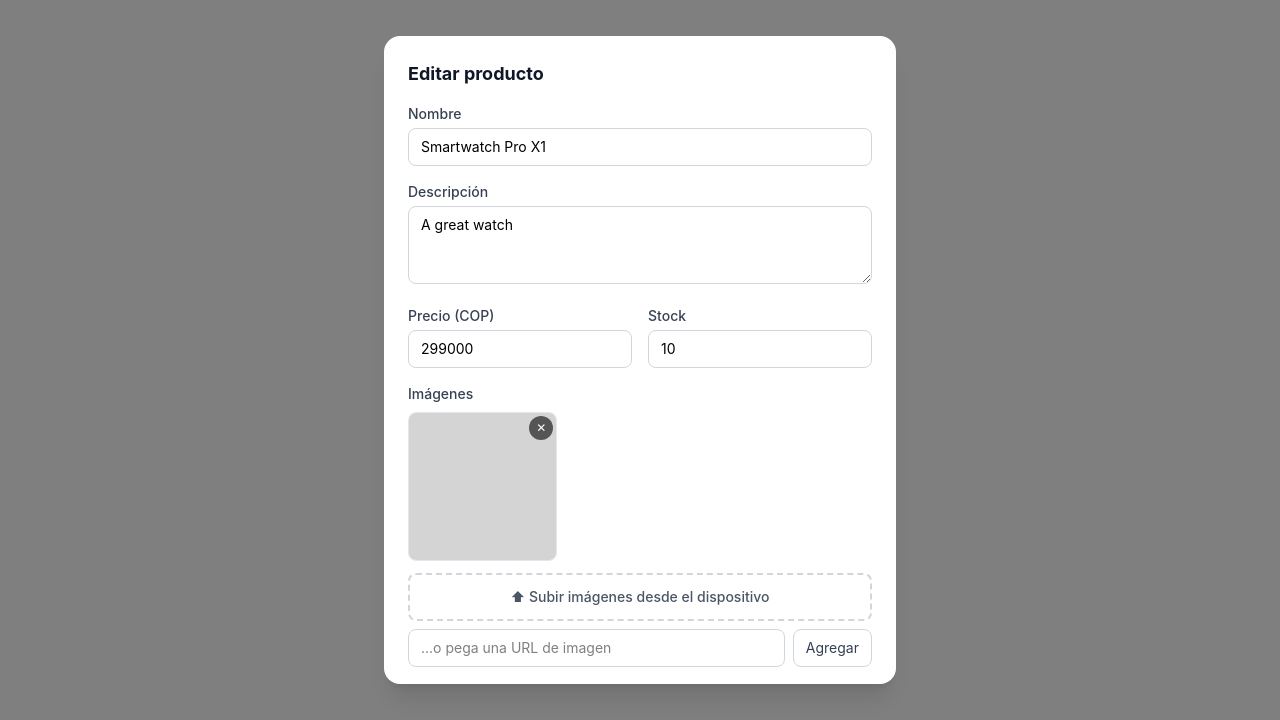
Scenario: ProductFormModal › can remove an image
Click the button named "Eliminar imagen". click: (541, 428)
box: [529, 416, 553, 440]
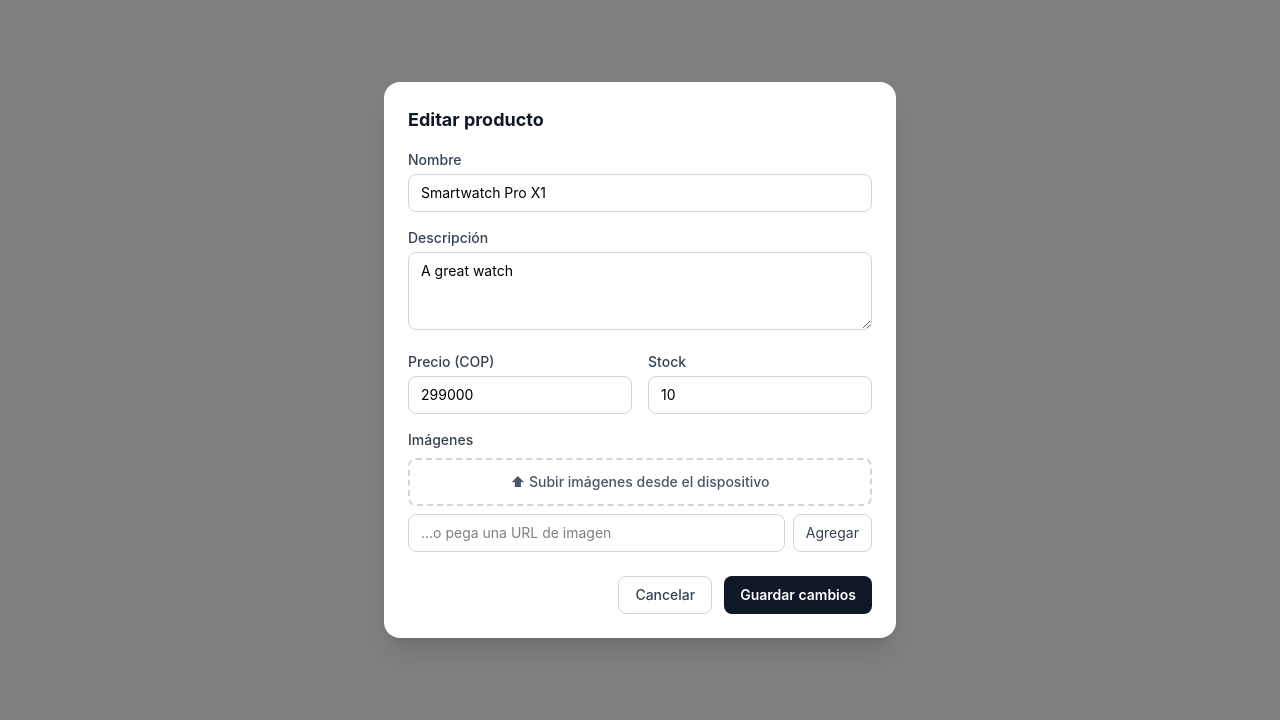
Click the button "Guardar cambios". click: (798, 595)
box: [724, 576, 872, 614]
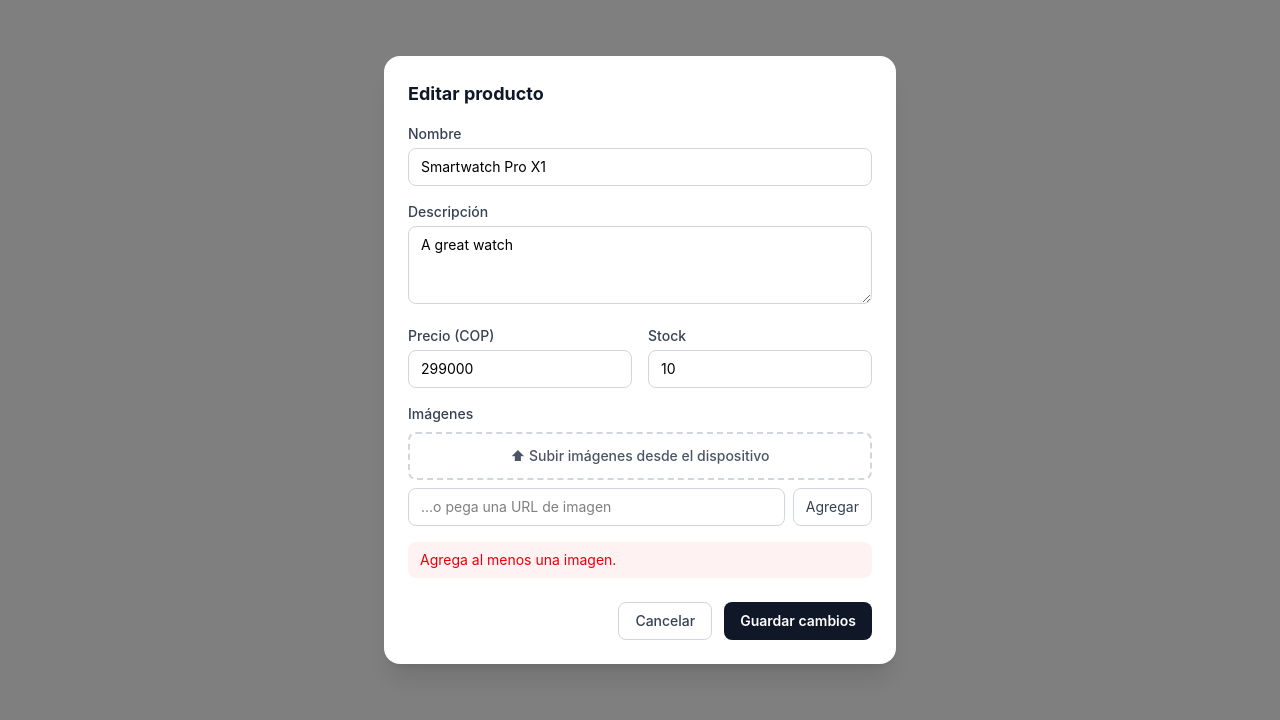
Check: the text "Agrega al menos una imagen." is shown, box [408, 542, 872, 578]
